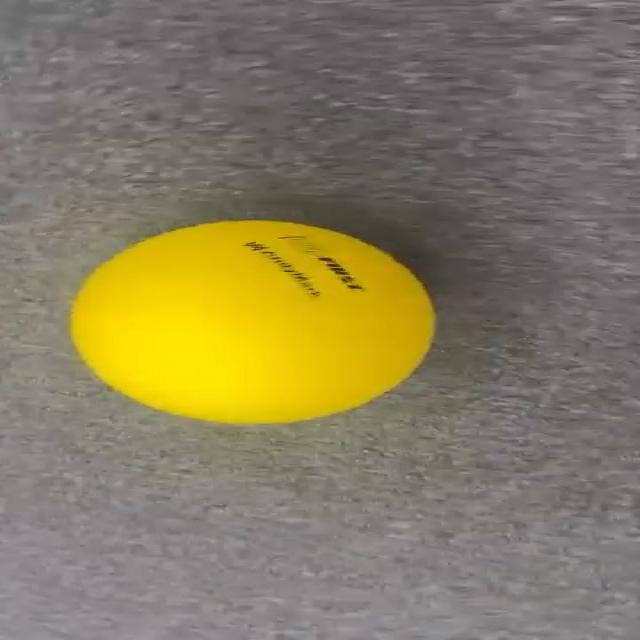Fuels: (73, 222, 432, 421)
